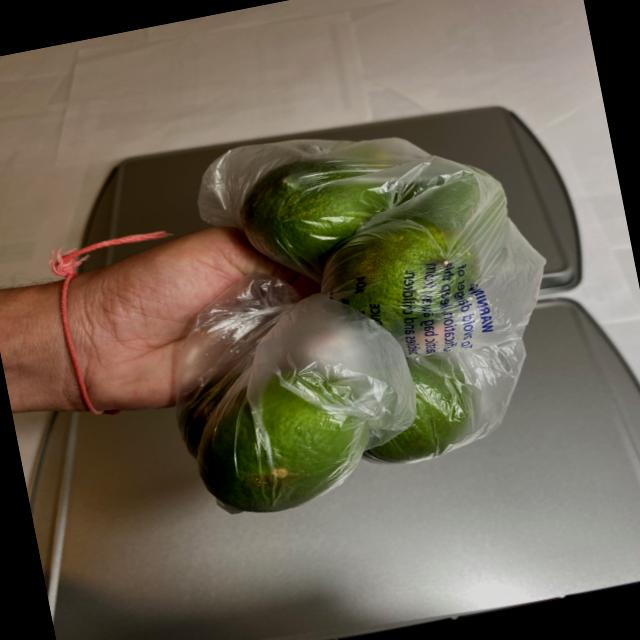lemon: (127, 120, 560, 531)
